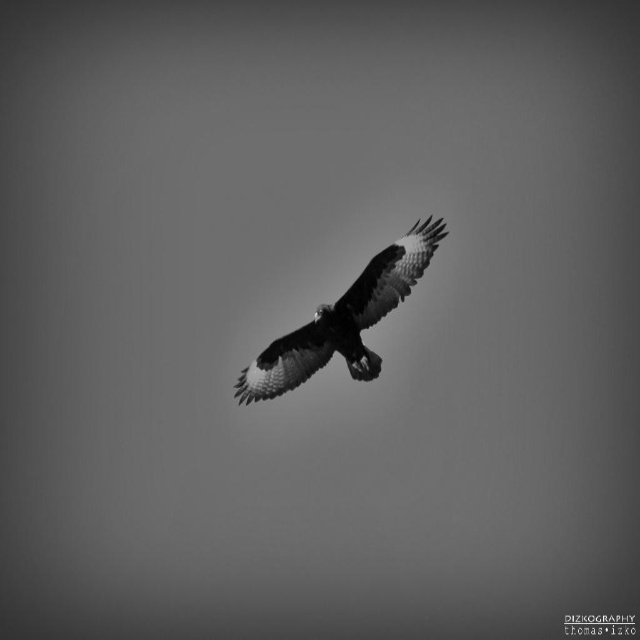Eagle: (234, 205, 452, 406)
